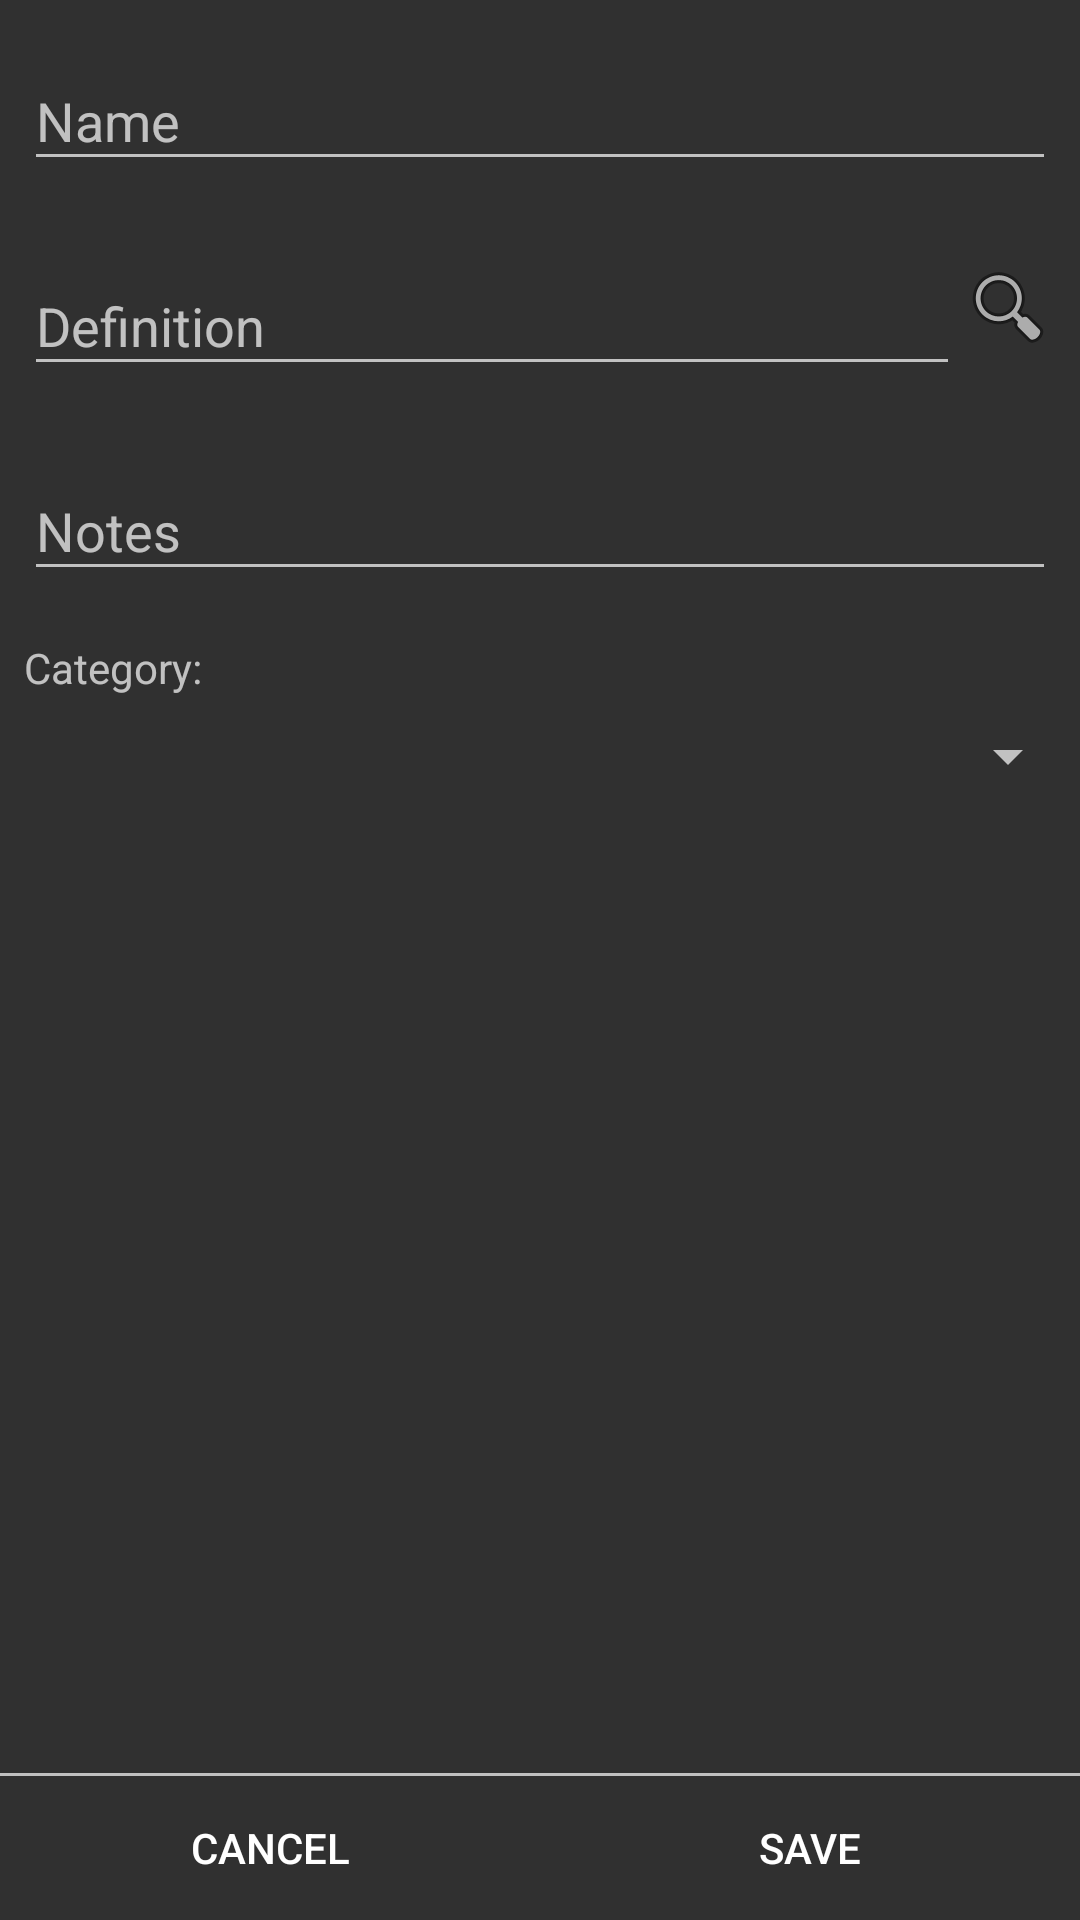

Named icons in this screenshot (1080 x 1920) and their bounding boxes, detection(x1, y1, x2, y2):
search: detection(975, 274, 1041, 341)
